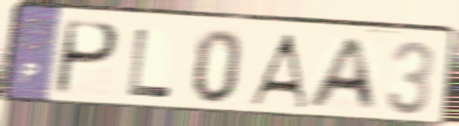0: (191, 26, 246, 107)
3: (385, 38, 436, 116)
A: (302, 36, 380, 113), (244, 31, 310, 111)
L: (124, 25, 173, 101)
P: (51, 18, 122, 99)
